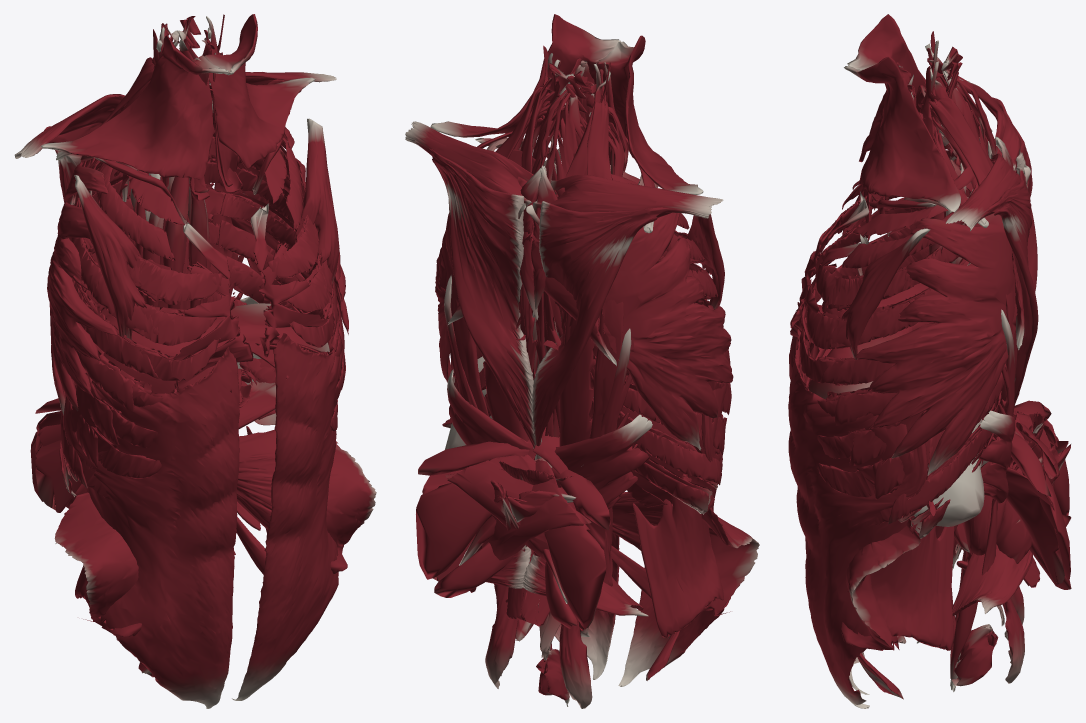
Rendered from roma-adapted-bp3d-high-meshopt.glb.
3 renders of one model, left to right at view 1: azimuth 30°, elevation 25°; view 2: azimuth 150°, elevation 25°; view 3: azimuth 270°, elevation 25°, orthographic.
Parts seen in each view (by area): view 1: right_external_oblique, left_external_oblique, external_intercostal_muscle, right_platysma, internal_intercostal_muscle, right_serratus_anterior, left_platysma, right_pectoralis_major_sternocostal_part, internal_intercostal_muscle_FJ1455M, left_pectoralis_major_sternocostal_part, innermost_intercostal_muscle_FJ1454M, right_pectoralis_minor (+20 smaller); view 2: right_serratus_anterior, left_trapezius_ascending_part, right_external_oblique, right_trapezius_ascending_part, external_intercostal_muscle, right_infraspinatus_muscle, right_trapezius_transverse_part, right_serratus_posterior_inferior, left_pectoralis_major_sternocostal_part, right_platysma, left_infraspinatus_muscle, left_platysma (+43 smaller); view 3: left_external_oblique, left_serratus_anterior, external_intercostal_muscle_FJ1451M, left_platysma, internal_intercostal_muscle_FJ1455M, right_pectoralis_major_sternocostal_part, diaphragm, left_trapezius_ascending_part, left_trapezius_descending_part, right_subscapularis, left_pectoralis_minor, right_platysma (+28 smaller).
Boxes of the visible parts, bbox=[...] form: right_external_oblique: bbox=[63, 343, 239, 708]; left_external_oblique: bbox=[232, 302, 342, 700]; external_intercostal_muscle: bbox=[59, 160, 184, 496]; right_platysma: bbox=[41, 35, 228, 179]; internal_intercostal_muscle: bbox=[66, 197, 221, 500]; right_serratus_anterior: bbox=[47, 155, 138, 415]; left_platysma: bbox=[204, 14, 315, 168]; right_pectoralis_major_sternocostal_part: bbox=[236, 429, 376, 573]; internal_intercostal_muscle_FJ1455M: bbox=[221, 147, 344, 432]; left_pectoralis_major_sternocostal_part: bbox=[54, 492, 141, 636]; innermost_intercostal_muscle_FJ1454M: bbox=[218, 148, 341, 383]; right_pectoralis_minor: bbox=[74, 175, 146, 339]; right_serratus_anterior: bbox=[602, 175, 733, 450]; left_trapezius_ascending_part: bbox=[427, 148, 541, 458]; right_external_oblique: bbox=[618, 382, 727, 686]; right_trapezius_ascending_part: bbox=[532, 201, 671, 459]; external_intercostal_muscle: bbox=[590, 165, 731, 514]; right_infraspinatus_muscle: bbox=[416, 458, 551, 579]; right_trapezius_transverse_part: bbox=[533, 167, 723, 225]; right_serratus_posterior_inferior: bbox=[554, 414, 652, 511]; left_pectoralis_major_sternocostal_part: bbox=[612, 492, 759, 616]; right_platysma: bbox=[597, 35, 703, 194]; left_infraspinatus_muscle: bbox=[544, 524, 606, 629]; left_platysma: bbox=[430, 14, 621, 137]; left_external_oblique: bbox=[788, 329, 954, 708]; left_serratus_anterior: bbox=[855, 197, 1017, 475]; external_intercostal_muscle_FJ1451M: bbox=[820, 163, 1005, 538]; left_platysma: bbox=[844, 56, 961, 212]; internal_intercostal_muscle_FJ1455M: bbox=[799, 246, 994, 535]; right_pectoralis_major_sternocostal_part: bbox=[841, 518, 920, 650]; diaphragm: bbox=[808, 275, 984, 526]; left_trapezius_ascending_part: bbox=[987, 167, 1038, 405]; left_trapezius_descending_part: bbox=[952, 422, 1044, 615]; right_subscapularis: bbox=[1006, 466, 1064, 586]; left_pectoralis_minor: bbox=[841, 228, 930, 359]; right_platysma: bbox=[847, 14, 925, 162].
Size of the model in its own units: 0.1978 by 0.4054 by 0.1562.
